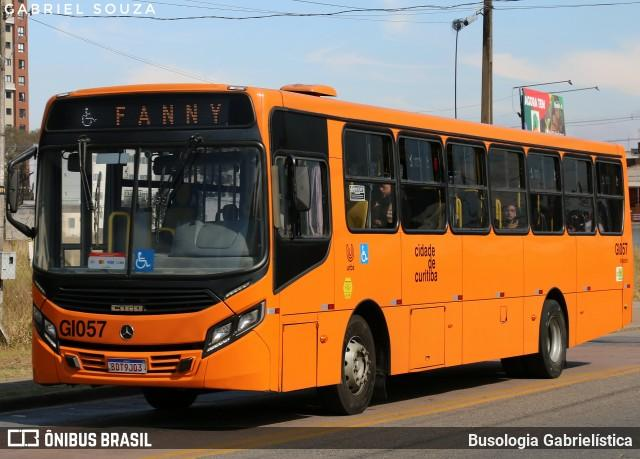FANNY: (109, 98, 229, 129)
